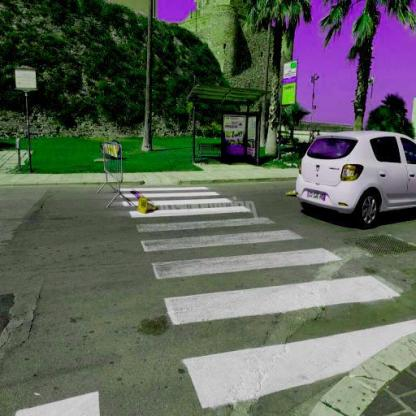crosswalk: (150, 245, 407, 333), (120, 196, 254, 221)
